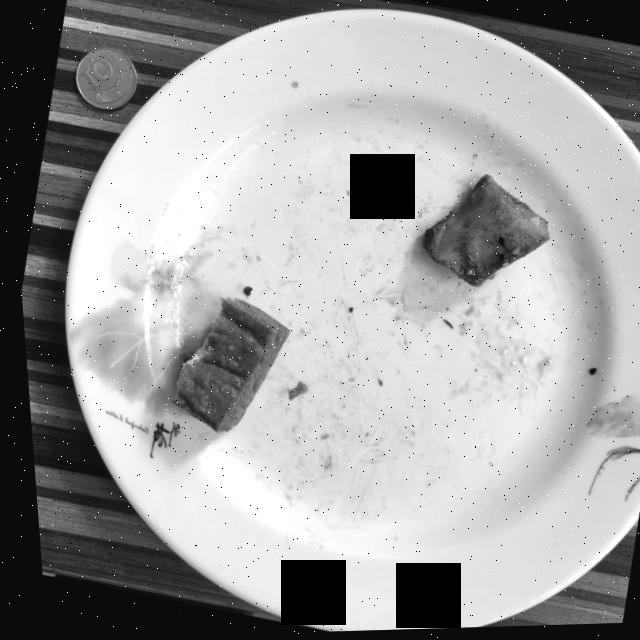coin: (72, 48, 135, 111)
egg tofu: (162, 299, 283, 433)
fried potato: (418, 177, 545, 289)
